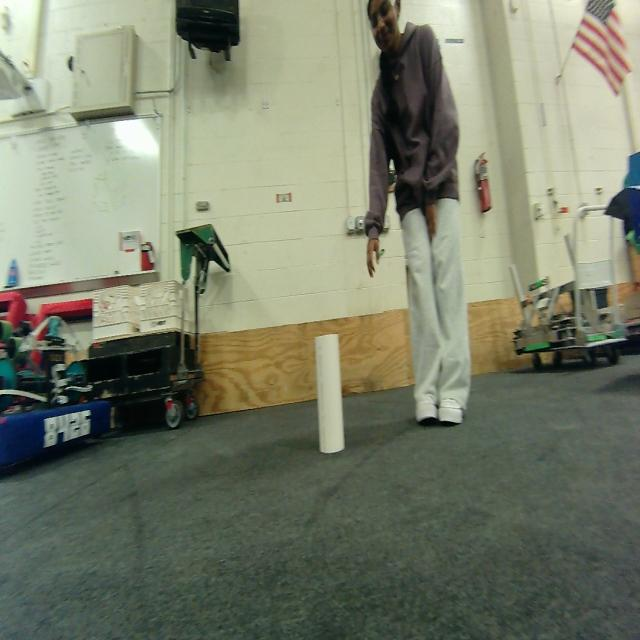coral: (314, 334, 344, 454)
